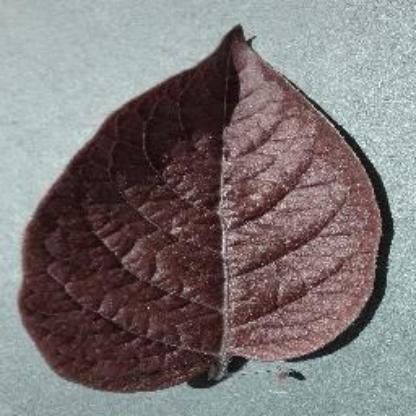Healthy-plant: (16, 15, 392, 400)
